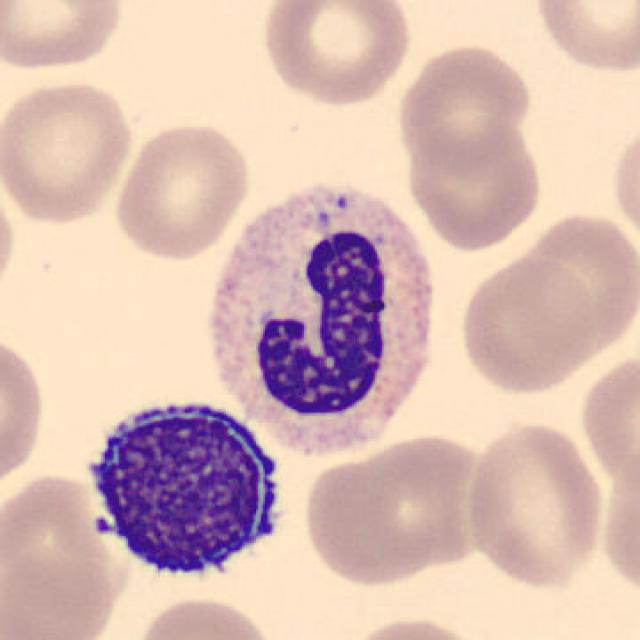Lymphocyte: (73, 382, 299, 598), (73, 383, 299, 596)
Neutrophil: (199, 170, 450, 473)
RBC: (299, 430, 496, 589), (460, 416, 608, 592), (0, 469, 128, 640), (110, 118, 254, 263), (0, 76, 137, 227), (455, 252, 597, 397), (402, 116, 548, 252), (512, 206, 638, 358), (393, 39, 537, 171), (258, 0, 416, 109), (576, 344, 638, 502), (0, 0, 128, 76), (528, 0, 638, 76), (0, 330, 50, 495), (595, 433, 640, 606), (130, 592, 281, 640), (336, 612, 498, 640), (608, 118, 640, 252), (0, 176, 20, 307)
